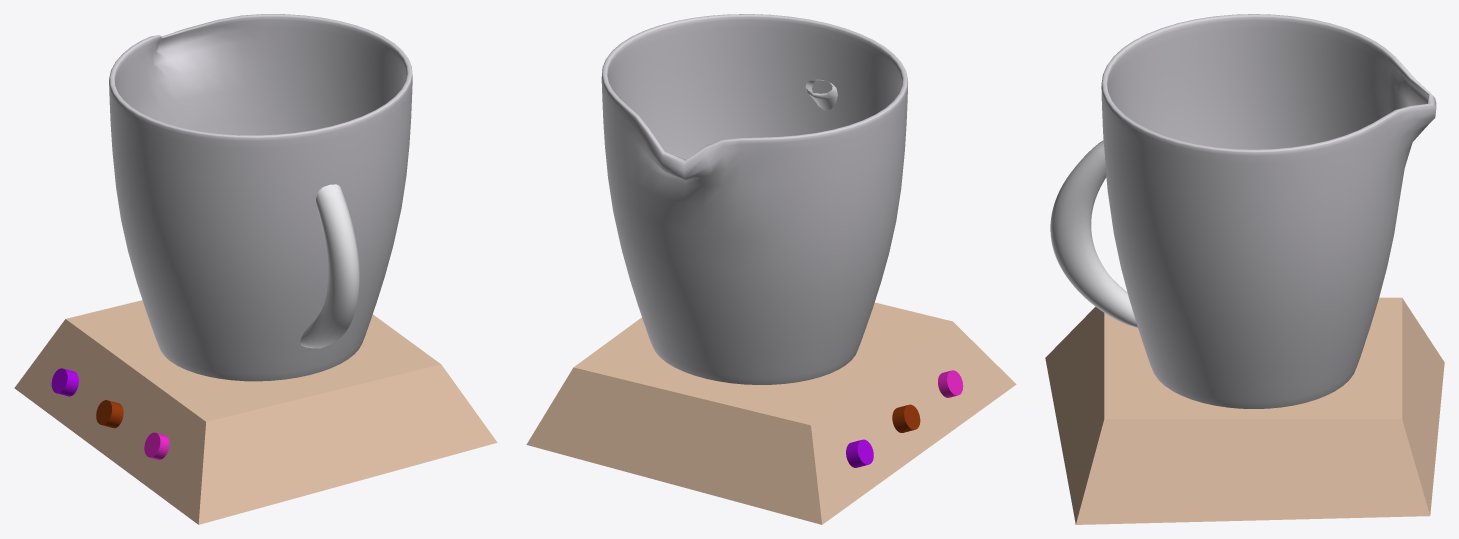
Rendered from blender.fbx.
The picture shows the model from 3 angles, left to right: view 1: azimuth 30°, elevation 25°; view 2: azimuth 150°, elevation 25°; view 3: azimuth 270°, elevation 25°; orthographic projection. The views are drawn at different scales.
Parts seen in each view (by area): view 1: GlassDrink, Cube, NurbsCurve, Cylinder.001, Cylinder, Cylinder.002; view 2: GlassDrink, Cube, Cylinder.001, Cylinder, Cylinder.002; view 3: GlassDrink, Cube, NurbsCurve.
Part boxes in pixels (x1,y1,x2,y2): GlassDrink: (109,14,412,381); Cube: (14,300,497,524); NurbsCurve: (300,184,359,348); Cylinder.001: (96,400,123,428); Cylinder: (51,368,78,396); Cylinder.002: (144,432,169,459); GlassDrink: (601,14,907,384); Cube: (526,302,1016,524); Cylinder.001: (892,404,920,432); Cylinder: (846,439,873,467); Cylinder.002: (938,370,963,397); GlassDrink: (1101,14,1436,408); Cube: (1045,297,1444,524); NurbsCurve: (1050,140,1137,327).
Size of the model in its own units: 267 by 279 by 278.
